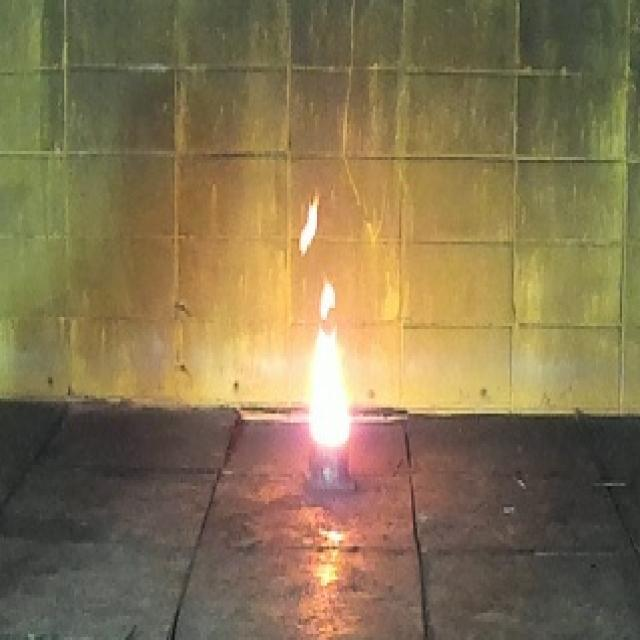Fire: (299, 188, 352, 448)
